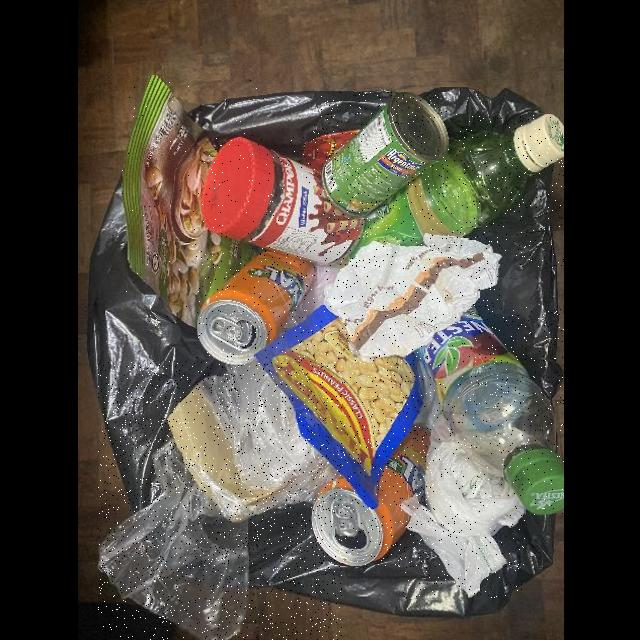metal: (312, 426, 431, 567), (322, 92, 449, 218), (197, 251, 316, 365)
paper: (325, 235, 501, 363)
plastic: (99, 361, 342, 640), (338, 115, 564, 268), (413, 307, 564, 515), (400, 415, 525, 599), (202, 137, 365, 267)
wrapper: (123, 75, 266, 330), (255, 305, 425, 510), (303, 130, 361, 182)
